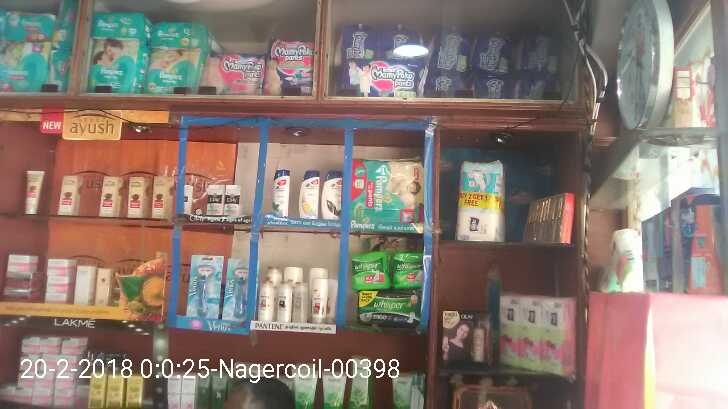venus: (223, 258, 259, 319), (190, 254, 223, 319)
